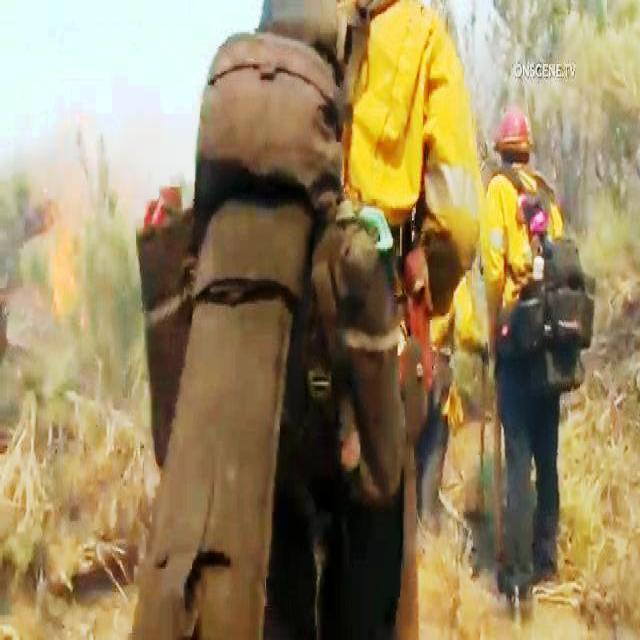Fire: (44, 159, 92, 344)
